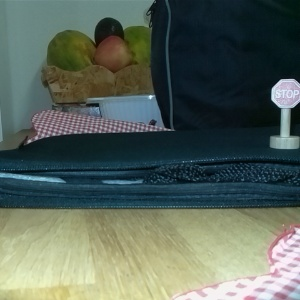stop sign: (269, 76, 300, 150)
